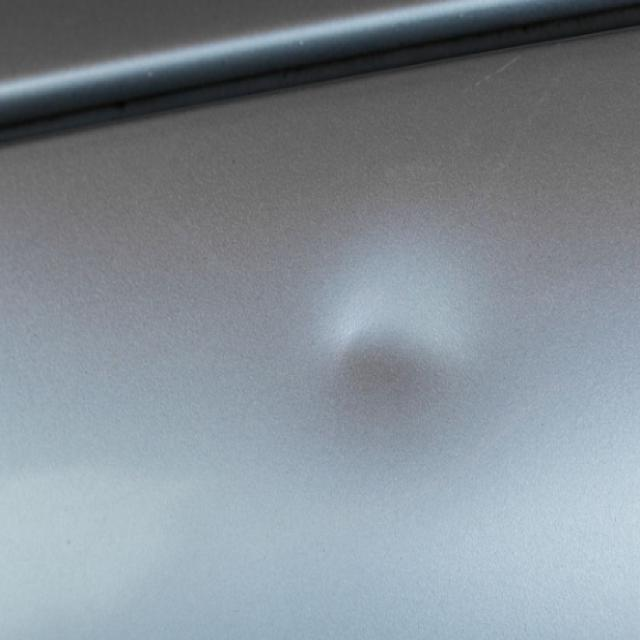dents: (301, 278, 504, 437)
